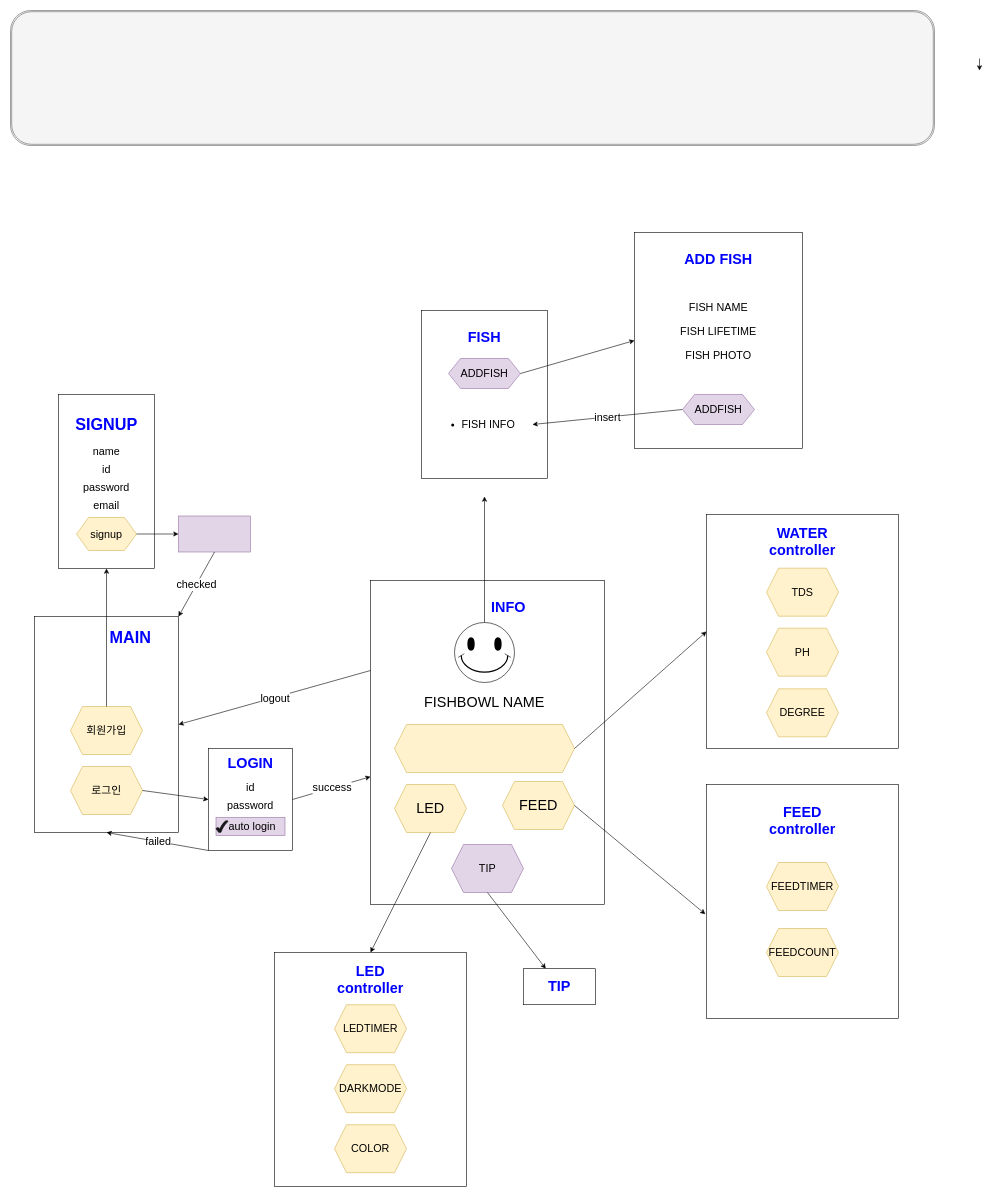
This 995x1197 diagram has some shape labels left out. The centre of each missing label's shape, as x and y in pixels:
"EMAILCHECK" belongs at [214,533].
"Fish bowl project" belongs at [472,78].
"WATER" belongs at [484,748].
